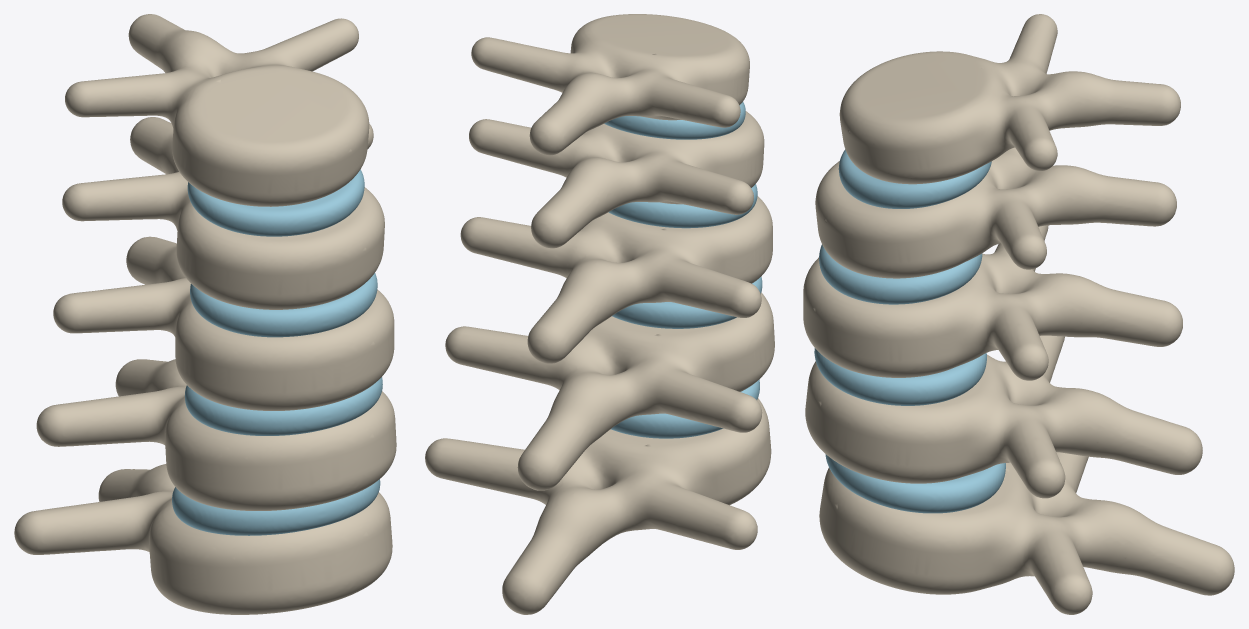
File: spine.glb
3 views of the same model, side by side, from view 1: azimuth 30°, elevation 25°; view 2: azimuth 150°, elevation 25°; view 3: azimuth 270°, elevation 25° (orthographic). The views are drawn at different scales.
Parts seen in each view (by area): view 1: vert_4, vert_0, vert_1, vert_2, vert_3, disc_3, disc_2, disc_0, disc_1; view 2: vert_0, vert_1, vert_2, vert_4, vert_3, disc_2, disc_1, disc_3, disc_0; view 3: vert_0, vert_4, vert_1, vert_2, vert_3, disc_0, disc_1, disc_2, disc_3.
Boxes of the visible parts, bbox=[...] form: vert_4: bbox=[65, 14, 369, 206]; vert_0: bbox=[14, 464, 392, 614]; vert_1: bbox=[36, 359, 396, 510]; vert_2: bbox=[53, 236, 394, 410]; vert_3: bbox=[62, 117, 384, 309]; disc_3: bbox=[187, 169, 364, 236]; disc_2: bbox=[190, 273, 377, 337]; disc_0: bbox=[172, 479, 380, 535]; disc_1: bbox=[184, 377, 382, 435]; vert_0: bbox=[425, 398, 771, 614]; vert_1: bbox=[445, 292, 774, 490]; vert_2: bbox=[460, 196, 772, 363]; vert_4: bbox=[471, 14, 749, 155]; vert_3: bbox=[469, 111, 764, 248]; disc_2: bbox=[608, 184, 757, 228]; disc_1: bbox=[612, 276, 762, 328]; disc_3: bbox=[604, 102, 745, 139]; disc_0: bbox=[611, 379, 759, 438]; vert_0: bbox=[819, 452, 1234, 614]; vert_4: bbox=[839, 14, 1180, 184]; vert_1: bbox=[805, 335, 1202, 498]; vert_2: bbox=[803, 225, 1182, 380]; vert_3: bbox=[815, 147, 1176, 278]; disc_0: bbox=[825, 454, 1005, 513]; disc_1: bbox=[814, 348, 986, 405]; disc_2: bbox=[819, 244, 982, 304]; disc_3: bbox=[838, 149, 991, 208].
Bounding box in the file's own units: 1.46 × 2.08 × 1.57.
